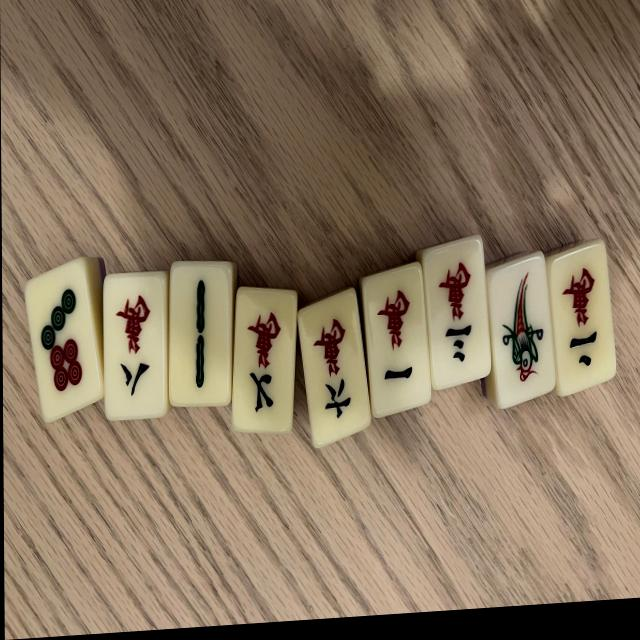1B: (488, 255, 559, 409)
1C: (360, 265, 432, 418)
2B: (169, 261, 235, 411)
2C: (543, 242, 615, 395)
3C: (417, 236, 489, 389)
6C: (300, 285, 373, 444)
7C: (232, 284, 297, 434)
7D: (24, 258, 103, 425)
8C: (103, 272, 168, 424)
